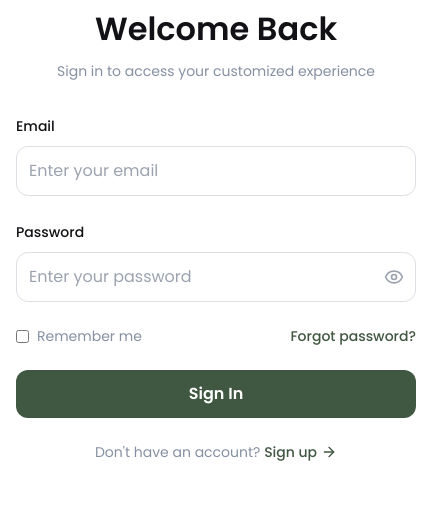
Test: LoginPage Component › shows validation errors when submitting empty form
The image size is (433, 526).
Click the button "Sign In". click: (216, 394)
box: [16,370,416,418]
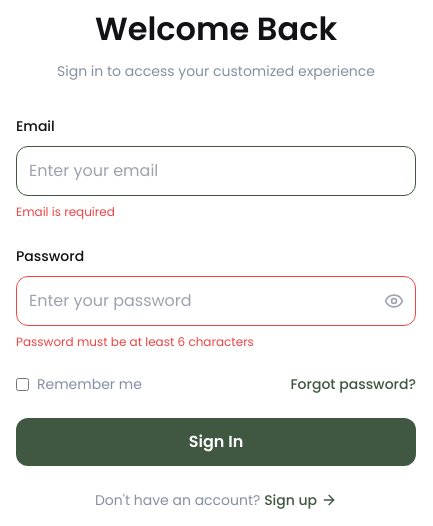
Expected: the text "Email is required" is shown, [16,203,115,220]
Expected: the text "Password must be at least 6 characters" is shown, [16,333,254,350]
